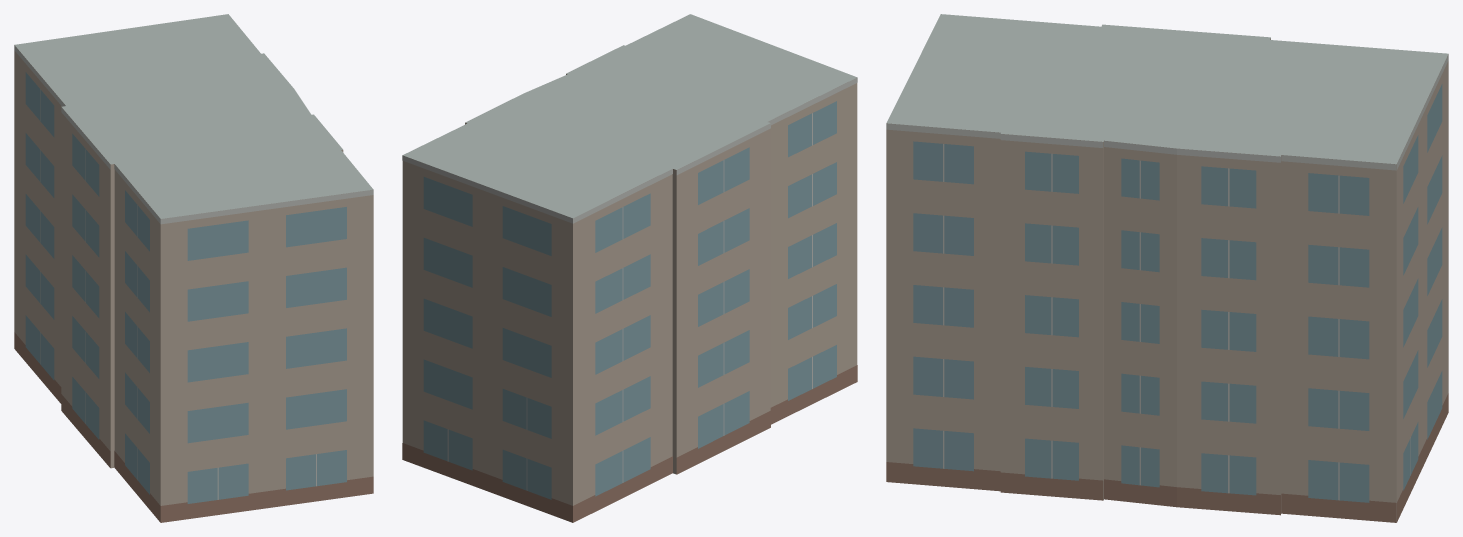
File: survey-upis-32920542.glb
3 renders of one model, left to right at view 1: azimuth 30°, elevation 25°; view 2: azimuth 150°, elevation 25°; view 3: azimuth 270°, elevation 25°, orthographic. The views are drawn at different scales.
Visible parts, largest first — view 1: survey-upis-32920542.tmp; view 2: survey-upis-32920542.tmp; view 3: survey-upis-32920542.tmp.
Part boxes in pixels (box(x1,y1,x2,y2)): survey-upis-32920542.tmp: box(14, 14, 373, 522); survey-upis-32920542.tmp: box(402, 14, 857, 522); survey-upis-32920542.tmp: box(886, 14, 1448, 522).
Size of the model in its own units: 12.5 by 13.9 by 19.76.
